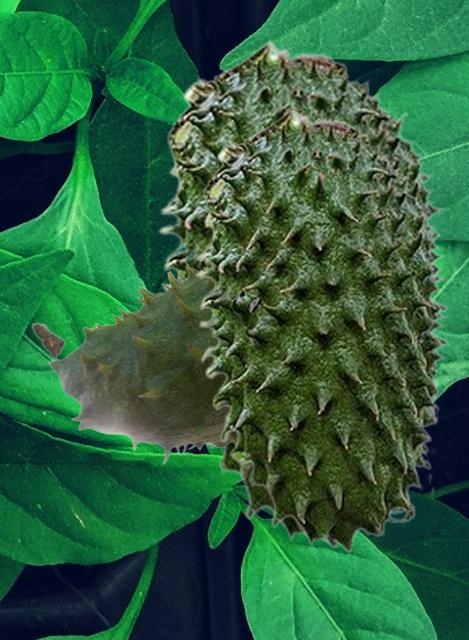guyabano: (158, 38, 449, 548), (195, 106, 449, 552), (31, 259, 235, 464)
